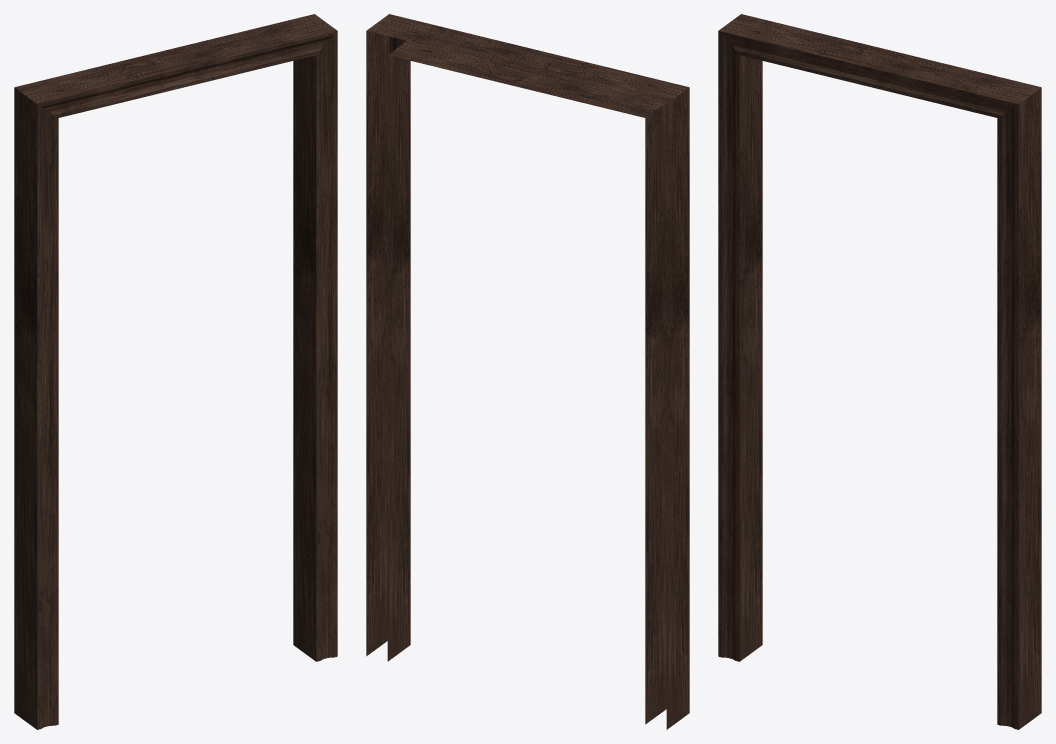
File: SM_DoorFrame.fbx
3 views of the same model, side by side, from view 1: azimuth 30°, elevation 25°; view 2: azimuth 150°, elevation 25°; view 3: azimuth 330°, elevation 25° (orthographic).
Parts seen in each view (by area): view 1: SM_DoorFrame; view 2: SM_DoorFrame; view 3: SM_DoorFrame.
Part boxes in pixels (x1,y1,x2,y2): SM_DoorFrame: [14, 14, 337, 729]; SM_DoorFrame: [366, 14, 689, 729]; SM_DoorFrame: [718, 14, 1041, 729].
Size of the model in its own units: 117 by 232 by 15.51.
